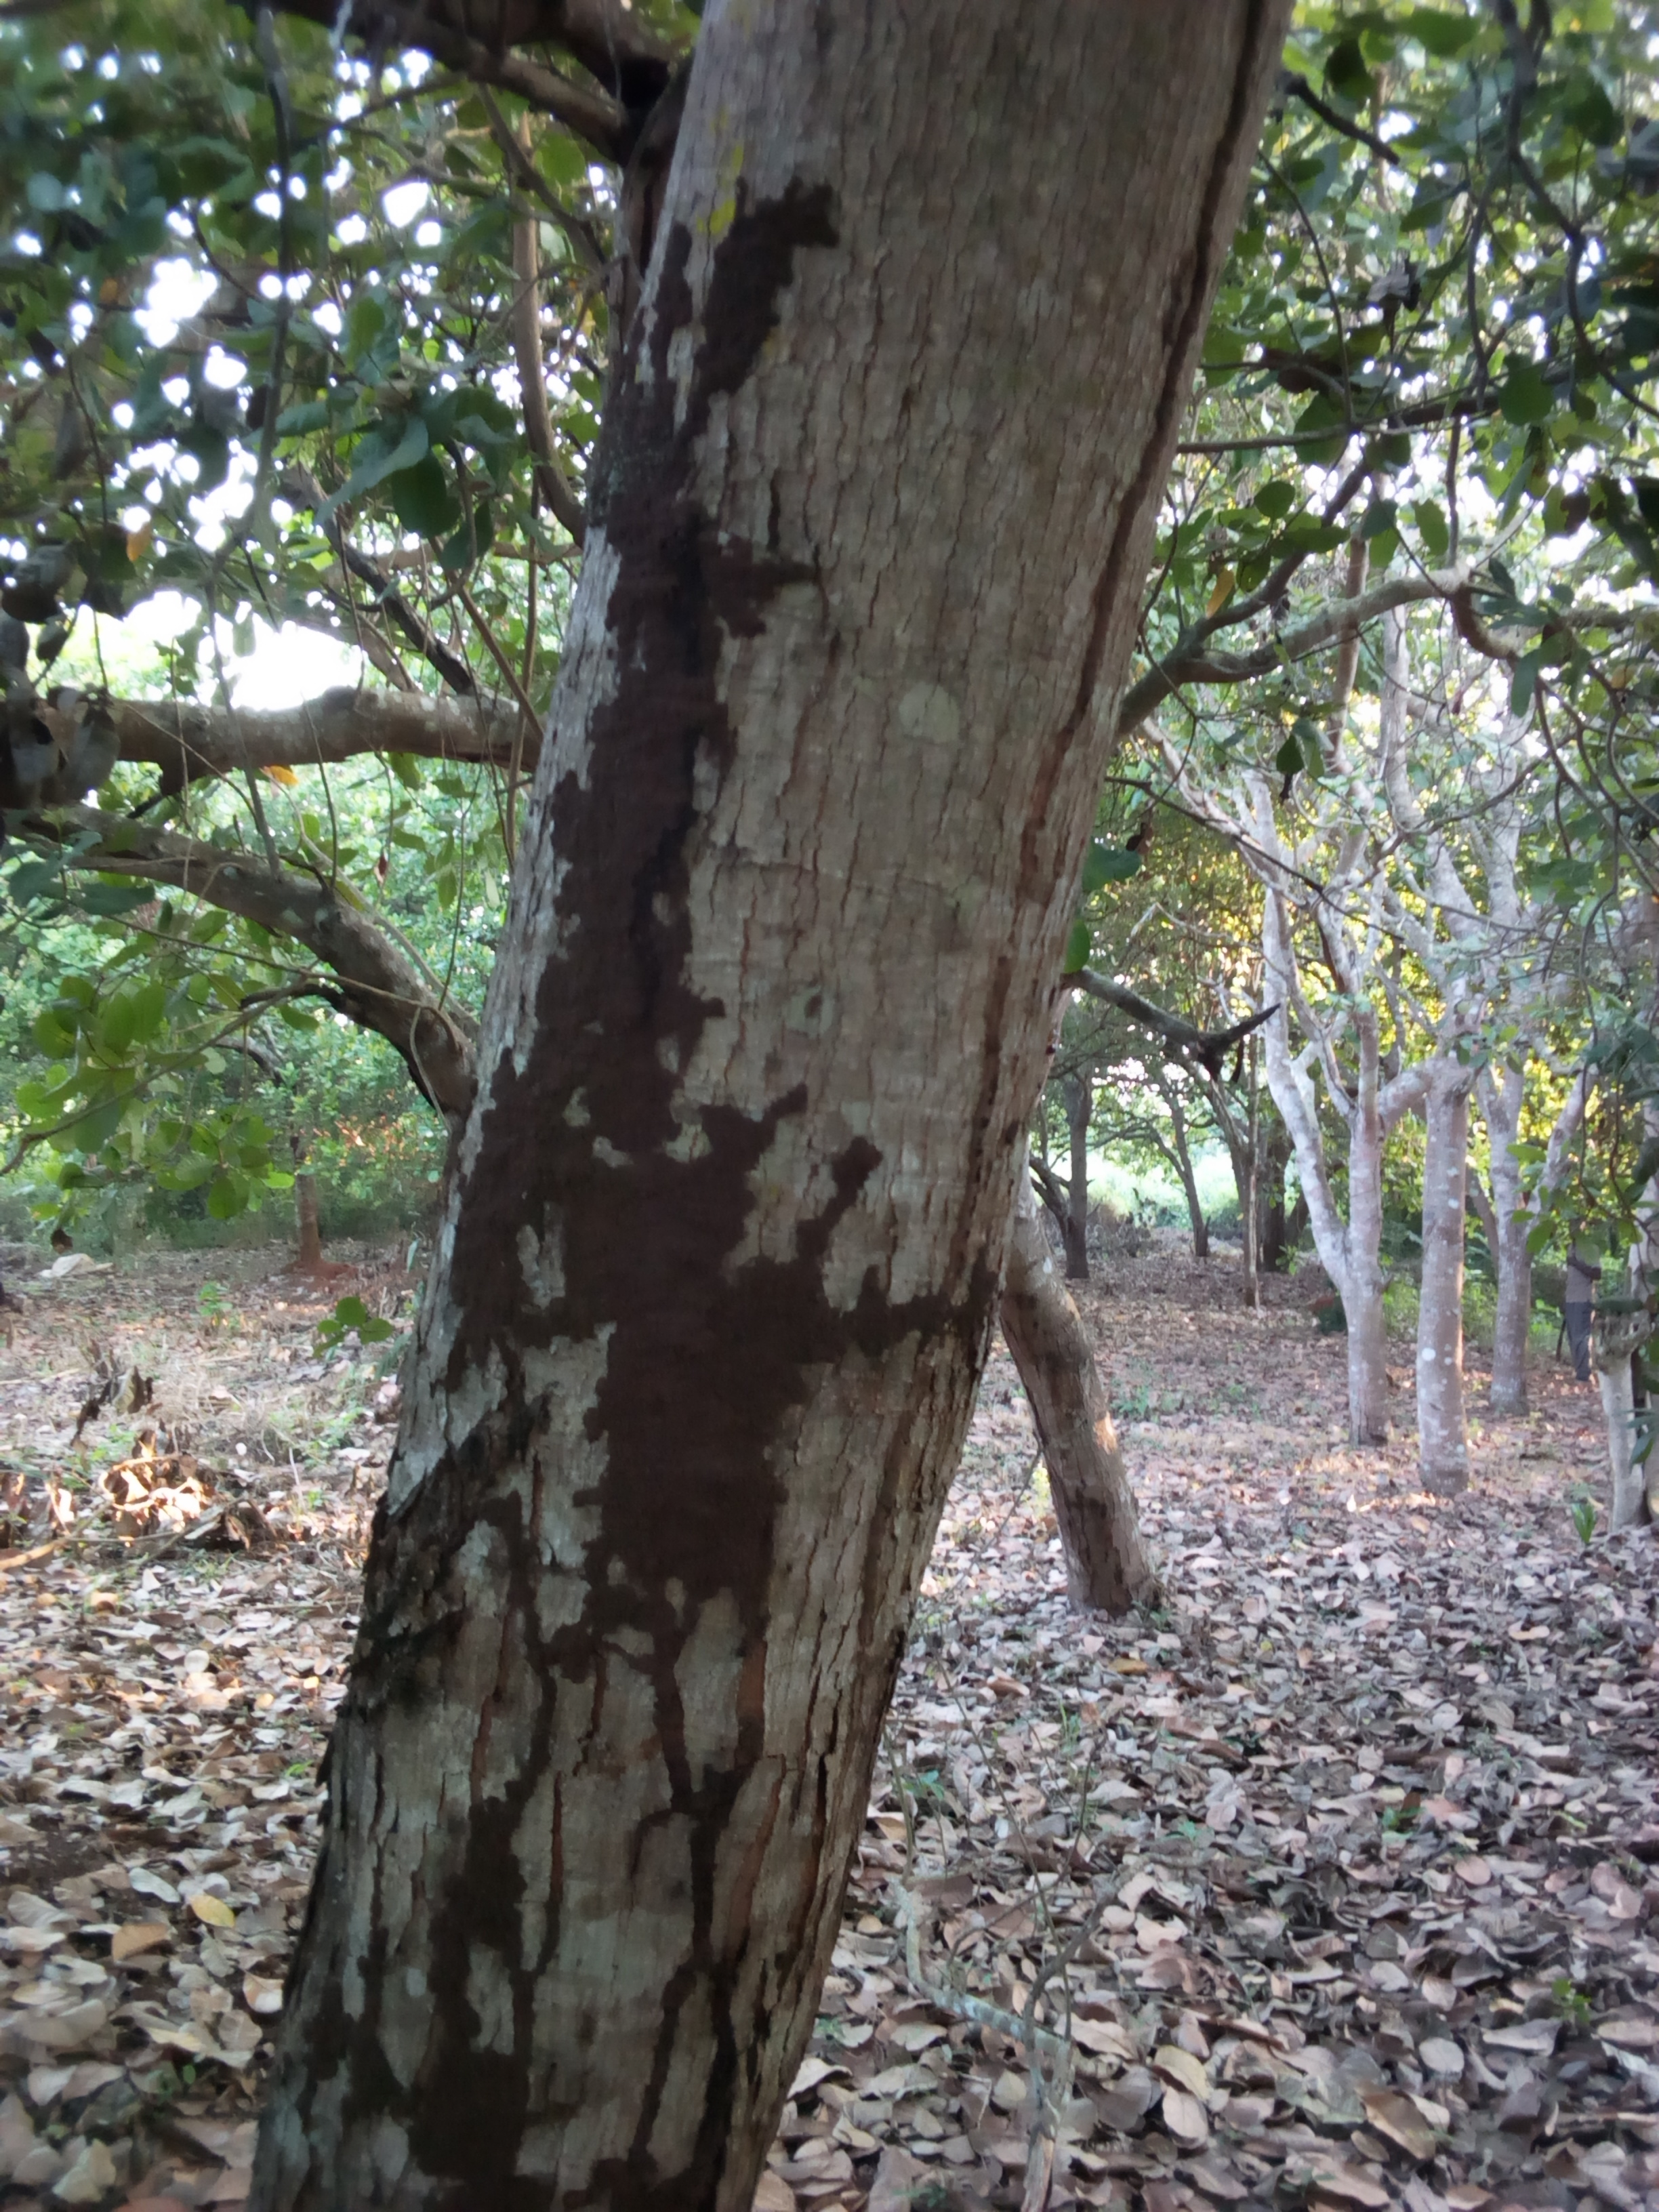Termites: (392, 181, 945, 2212)
